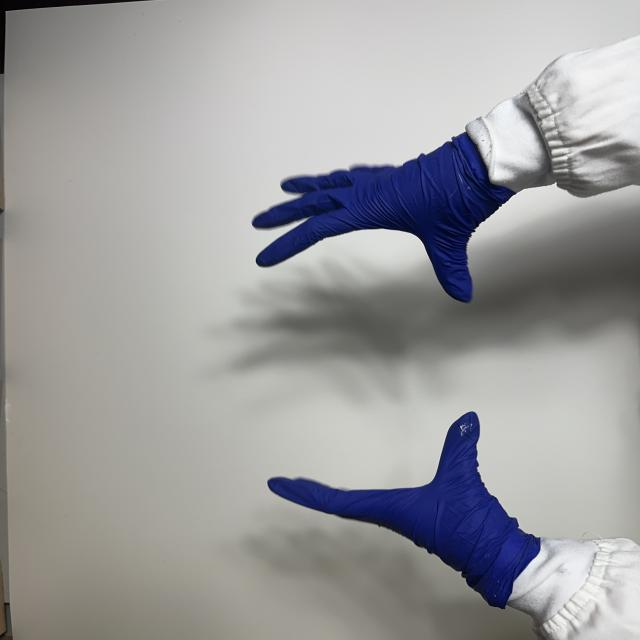gloves_contaminated: (268, 412, 540, 608), (252, 134, 514, 302)
